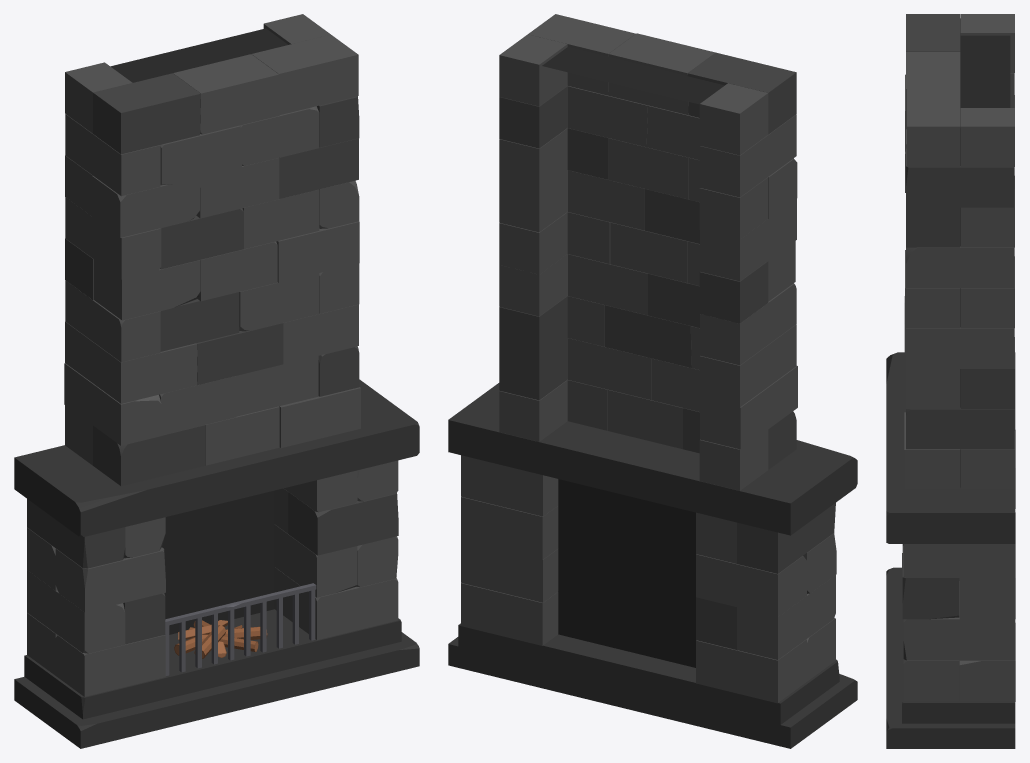
Rendered from Fireplace_01.glb.
3 views of the same model, side by side, from view 1: azimuth 30°, elevation 25°; view 2: azimuth 150°, elevation 25°; view 3: azimuth 270°, elevation 25° (orthographic). The views are drawn at different scales.
Visible parts, largest first — view 1: Fireplace_01_LOD0; view 2: Fireplace_01_LOD0; view 3: Fireplace_01_LOD0.
Part boxes in pixels (x1,y1,x2,y2): Fireplace_01_LOD0: (14, 14, 419, 748); Fireplace_01_LOD0: (448, 14, 857, 748); Fireplace_01_LOD0: (886, 14, 1015, 748).
Size of what is drawn, in the model's own units: 1.67 by 2.91 by 0.568.
1 material, 1 textured.
